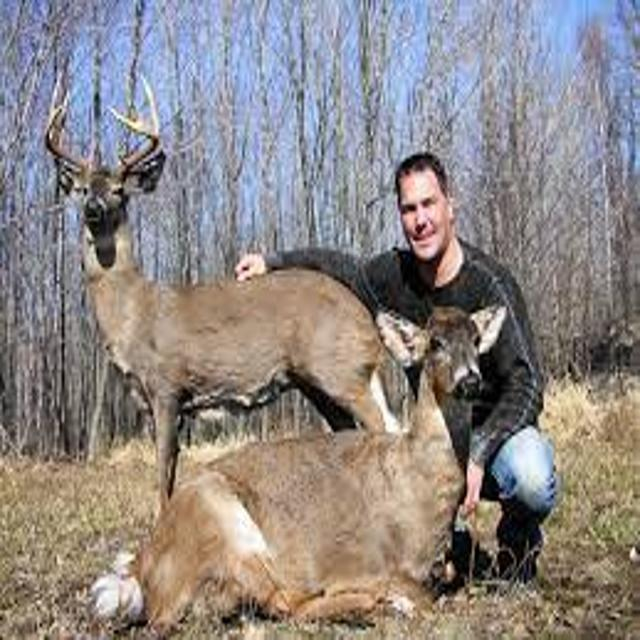Deer: (19, 74, 447, 470), (106, 298, 560, 608)
